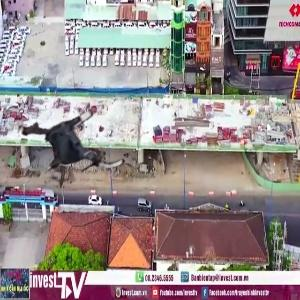drone: (15, 89, 126, 200)
